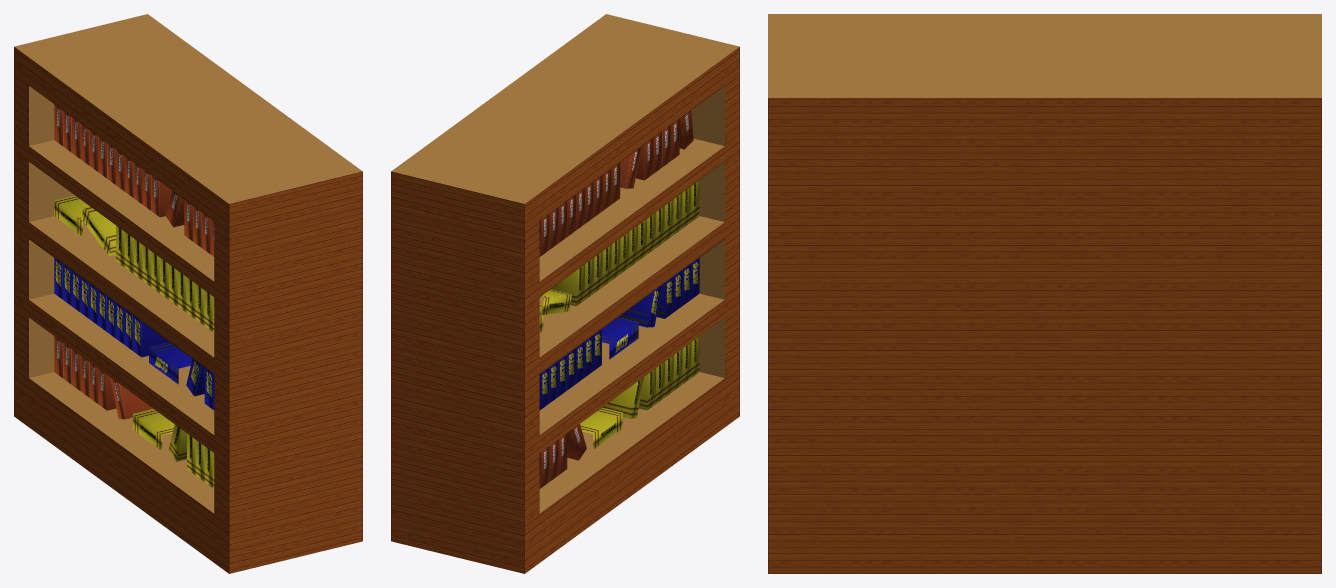
Rendered from BookShelf V3.fbx.
3 renders of one model, left to right at view 1: azimuth 30°, elevation 25°; view 2: azimuth 150°, elevation 25°; view 3: azimuth 270°, elevation 25°, orthographic. The views are drawn at different scales.
Parts seen in each view (by area): view 1: Bookshelf2; view 2: Bookshelf2; view 3: Bookshelf2.
Part boxes in pixels (left/top/right/bottom): Bookshelf2: left=14, top=14, right=362, bottom=573; Bookshelf2: left=391, top=14, right=739, bottom=573; Bookshelf2: left=768, top=14, right=1321, bottom=573.
Bounding box in the file's own units: 123 × 325 × 343.
5 materials, 4 textured.
